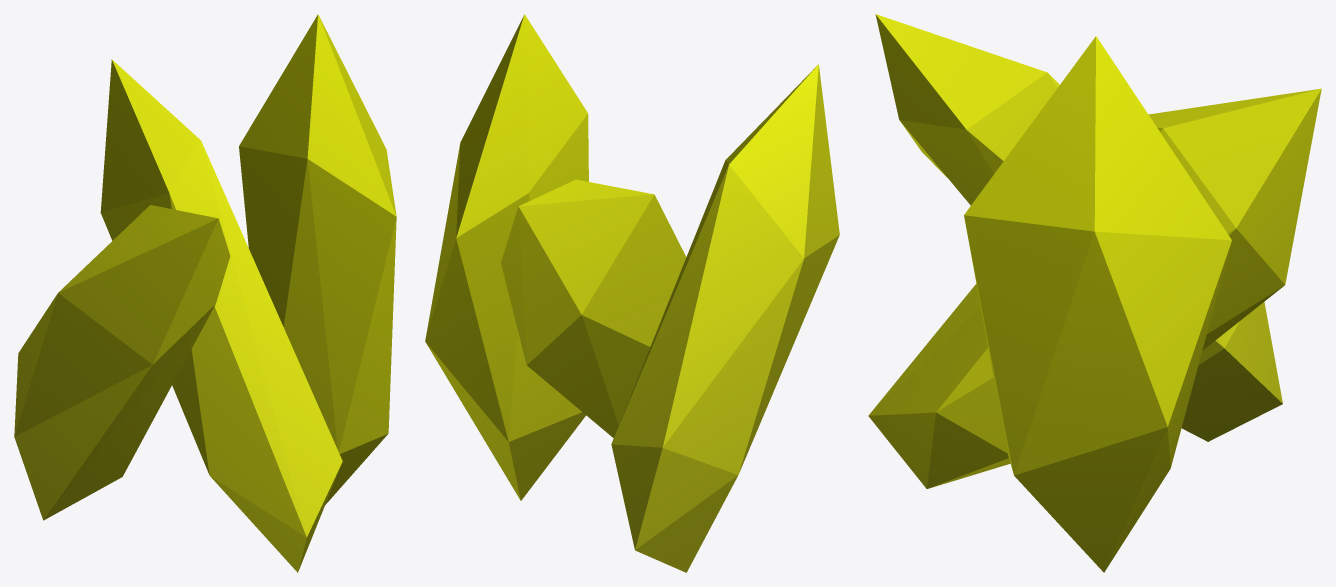
File: Calcite.fbx
3 views of the same model, side by side, from view 1: azimuth 30°, elevation 25°; view 2: azimuth 150°, elevation 25°; view 3: azimuth 270°, elevation 25° (orthographic). The views are drawn at different scales.
Parts seen in each view (by area): view 1: CALCITE.001; view 2: CALCITE.001; view 3: CALCITE.001.
Boxes of the visible parts, x1,y1,x2,y2 form: CALCITE.001: (14, 14, 396, 572); CALCITE.001: (425, 14, 839, 572); CALCITE.001: (868, 14, 1321, 572).
Bounding box in the file's own units: 178 × 248 × 190.
1 material, 1 textured.
